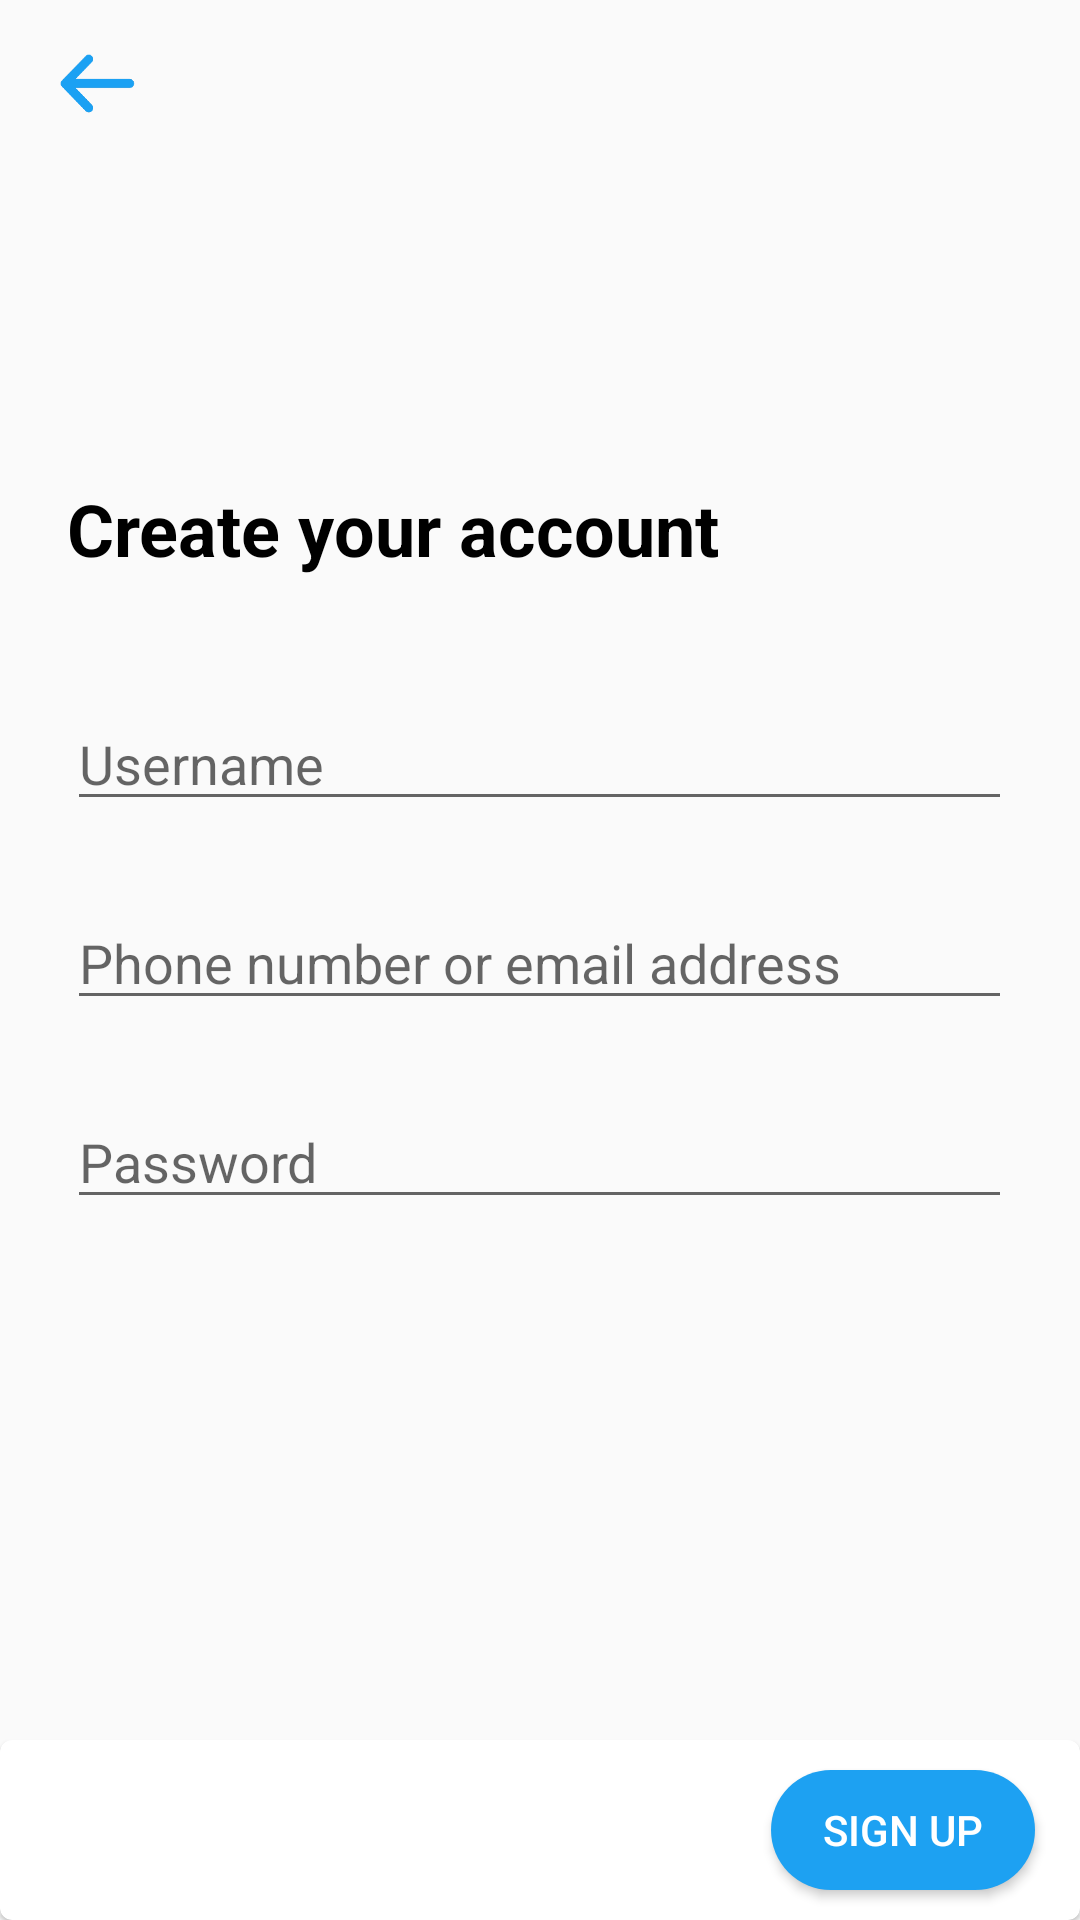

Icon click points for this 1080px x 1920px phone screenshot, format point (x, y):
back: point (97, 83)
